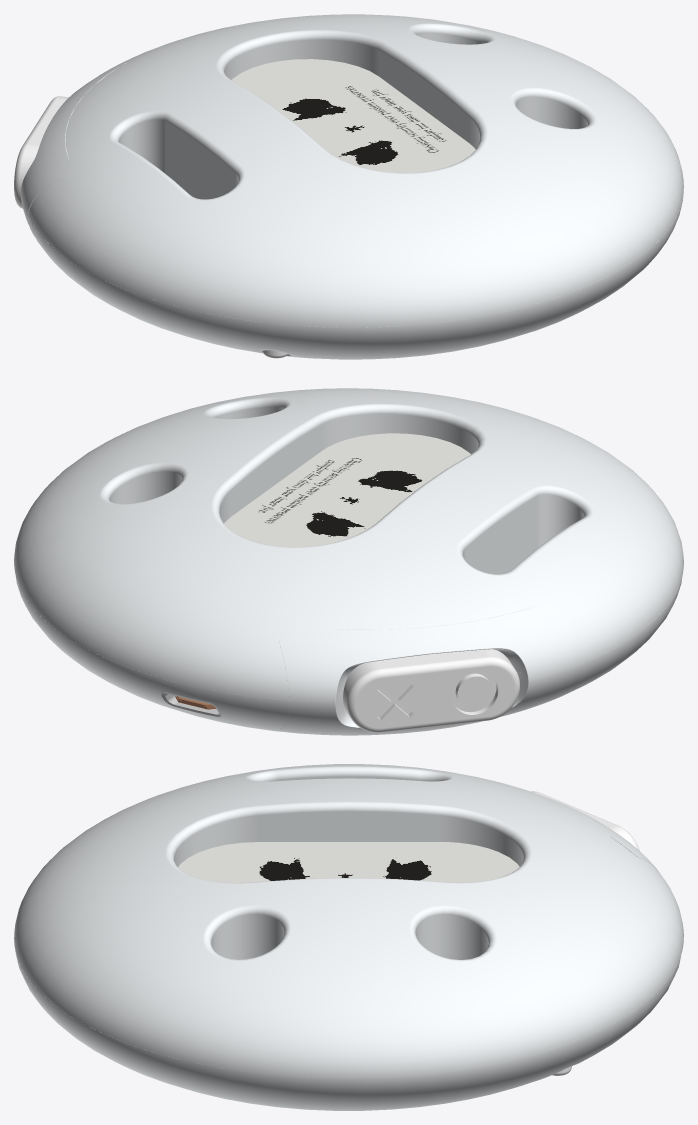
The model's file is case-only-optimized.glb.
The picture shows the model from 3 angles, top to bottom: view 1: azimuth 30°, elevation 25°; view 2: azimuth 150°, elevation 25°; view 3: azimuth 270°, elevation 25°; orthographic projection.
Visible parts, largest first — view 1: case_lower, screen, button_cover; view 2: case_lower, screen, button_cover, e_ink_screen.016; view 3: case_lower, screen.
Boxes of the visible parts, box(x1,y1,x2,y2) form: case_lower: box(20, 14, 683, 359); screen: box(232, 59, 475, 172); button_cover: box(14, 96, 68, 208); case_lower: box(14, 388, 683, 735); screen: box(224, 433, 470, 546); button_cover: box(343, 649, 519, 732); e_ink_screen.016: box(161, 692, 221, 716); case_lower: box(14, 764, 683, 1110); screen: box(178, 842, 519, 882).
Size of the model in its own units: 3.03 by 0.993 by 3.03.
Materials: 22 (7 with a texture image).
